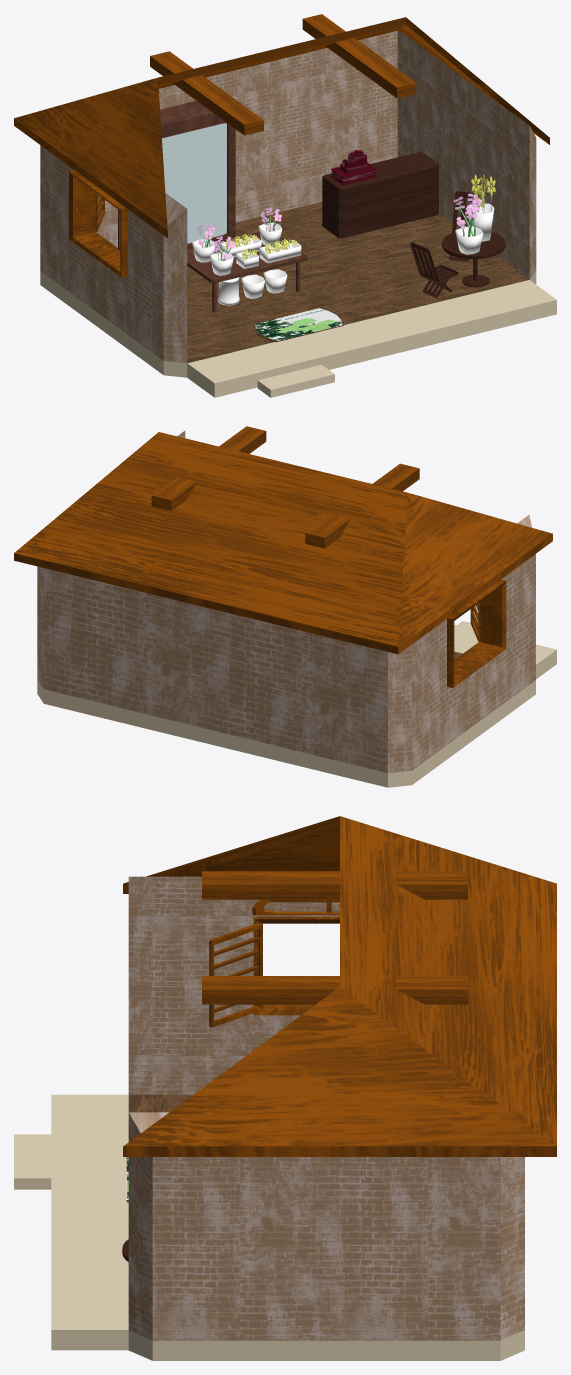
Rendered from FlowerShop.fbx.
The picture shows the model from 3 angles, top to bottom: view 1: azimuth 30°, elevation 25°; view 2: azimuth 150°, elevation 25°; view 3: azimuth 270°, elevation 25°; orthographic projection. The views are drawn at different scales.
Visible parts, largest first — view 1: House1; view 2: House1; view 3: House1.
Boxes of the visible parts, x1,y1,x2,y2 form: House1: (14,14,556,397); House1: (14,426,556,787); House1: (14,816,556,1360).
Bounding box in the file's own units: 1175 × 691 × 1026.
